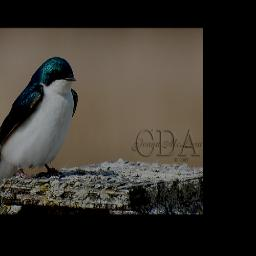Swallow: (0, 56, 79, 213)
